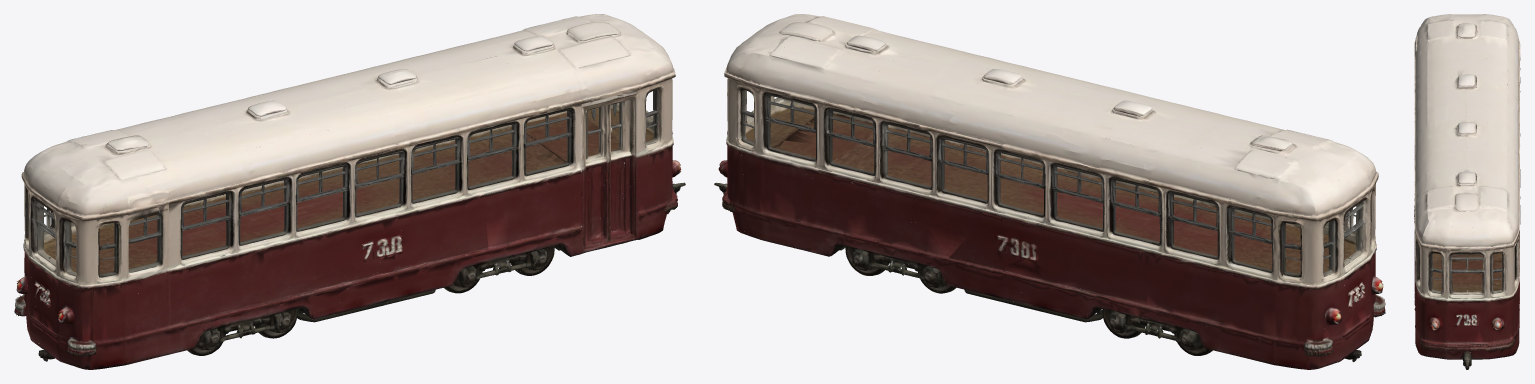
Rendered from ktp2.glb.
3 views of the same model, side by side, from view 1: azimuth 30°, elevation 25°; view 2: azimuth 150°, elevation 25°; view 3: azimuth 270°, elevation 25° (orthographic). The views are drawn at different scales.
Visible parts, largest first — view 1: KTP-2; view 2: KTP-2; view 3: KTP-2.
Boxes of the visible parts, x1,y1,x2,y2 form: KTP-2: (14,14,685,369); KTP-2: (714,14,1385,369); KTP-2: (1414,14,1520,369).
Size of the model in its own units: 13.6 by 4.34 by 2.6.
1 material, 1 textured.
